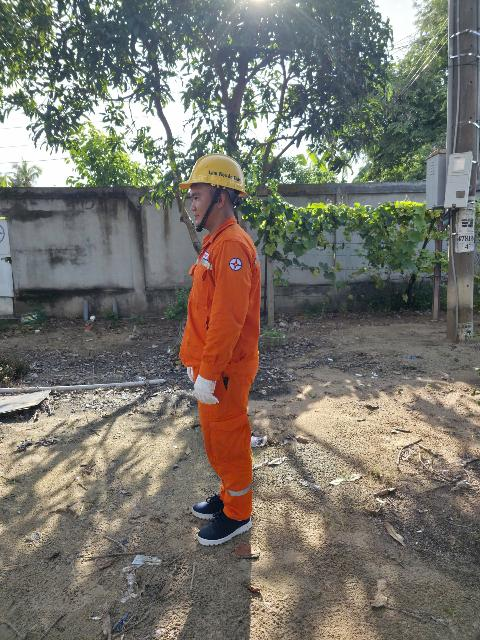gloves: (187, 368, 229, 407)
helmet: (170, 143, 243, 202)
shoes: (191, 506, 258, 550), (176, 486, 239, 519)
